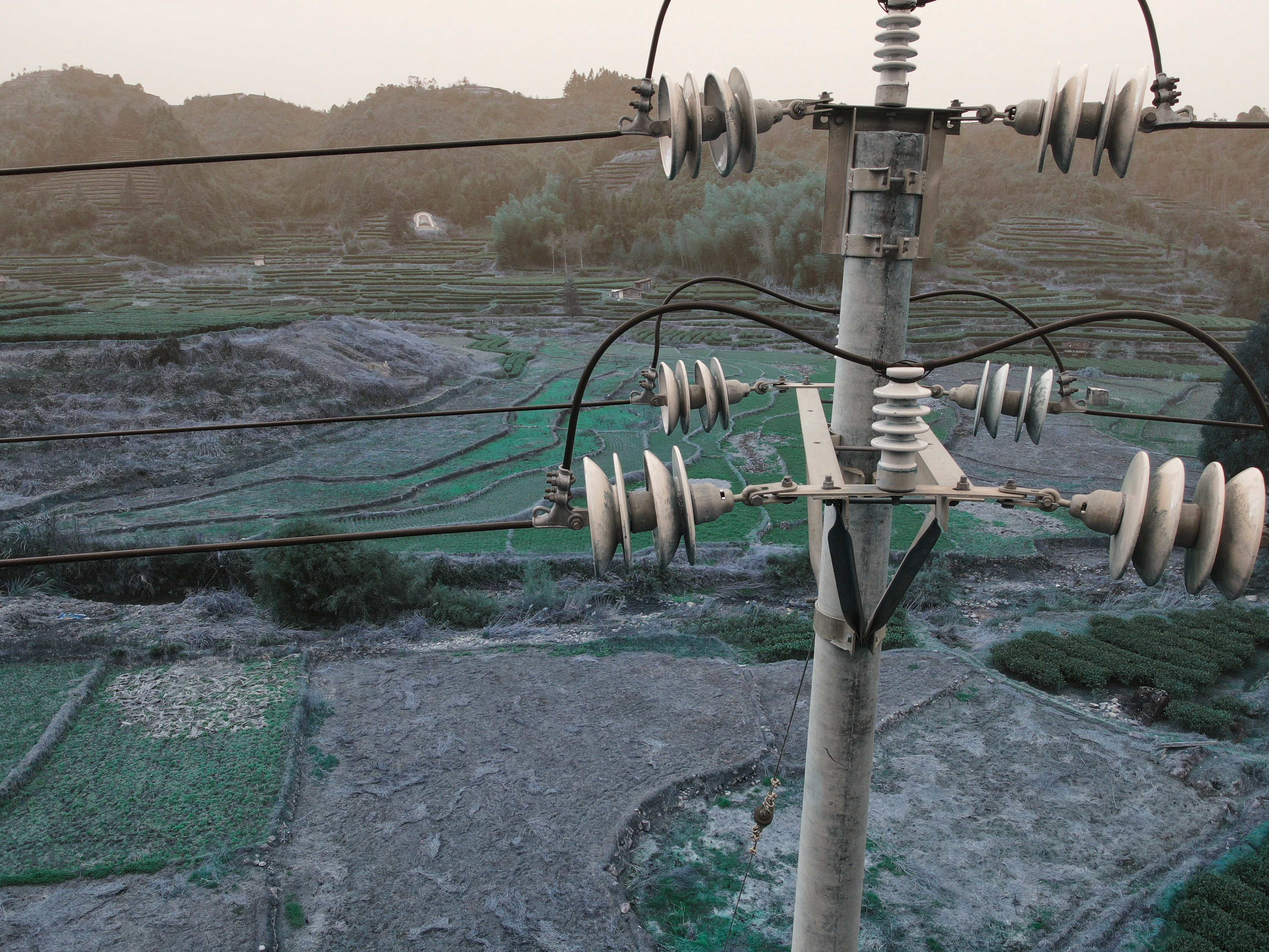severe_soiling_no_discharge_whole: (1066, 436, 1268, 607), (580, 443, 739, 578), (998, 60, 1152, 183), (654, 66, 787, 181), (949, 355, 1056, 447), (869, 362, 936, 494), (654, 356, 754, 437)
